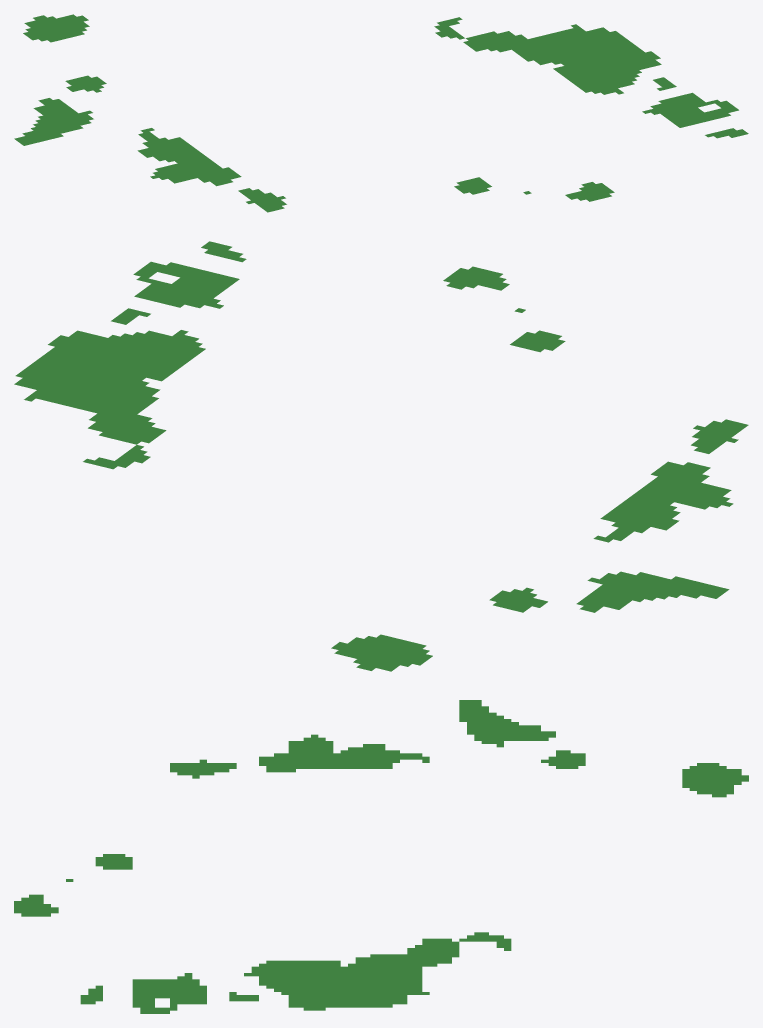
File: Isl-hilly3-TreesArea.fbx
The picture shows the model from 3 angles, top to bottom: view 1: azimuth 30°, elevation 25°; view 2: azimuth 150°, elevation 25°; view 3: azimuth 270°, elevation 25°; orthographic projection. The views are drawn at different scales.
Visible parts, largest first — view 1: Isl-hilly3-TreesArea; view 2: Isl-hilly3-TreesArea; view 3: Isl-hilly3-TreesArea.
Part boxes in pixels (x1,y1,x2,y2): Isl-hilly3-TreesArea: (14,14,748,212); Isl-hilly3-TreesArea: (14,241,748,671); Isl-hilly3-TreesArea: (14,700,748,1013).
Bounding box in the file's own units: 100 × 0 × 99.
